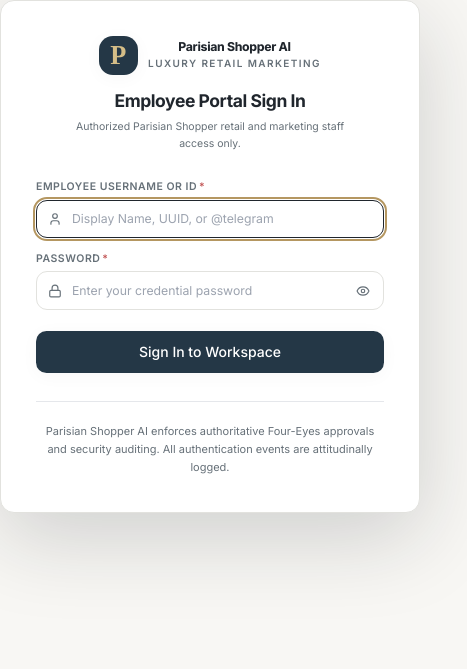
Test: Login Flow (WEB-AUTH-01 to WEB-AUTH-06, WEB-AUTH-15) › WEB-AUTH-05: displays generic error feedback on 401 invalid credentials
This screenshot has width=467, height=669.
In the field labelled "Employee Username or ID*": point(210, 219) x1=36 y1=200 x2=384 y2=238, type "wrong_user"
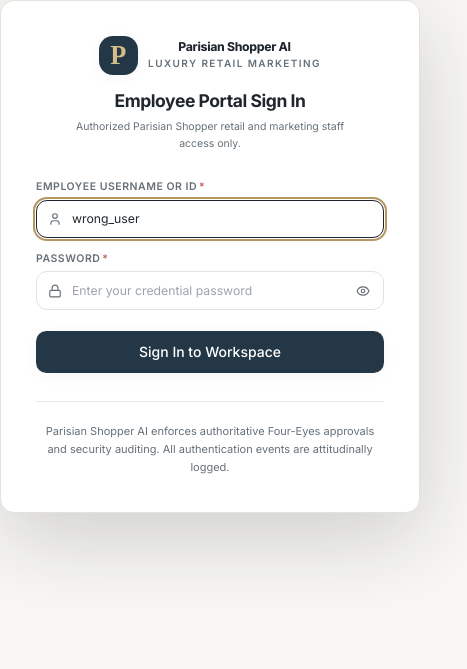
In the password field labelled "Password*": point(210, 291) x1=36 y1=271 x2=384 y2=310, type "wrong_pass"
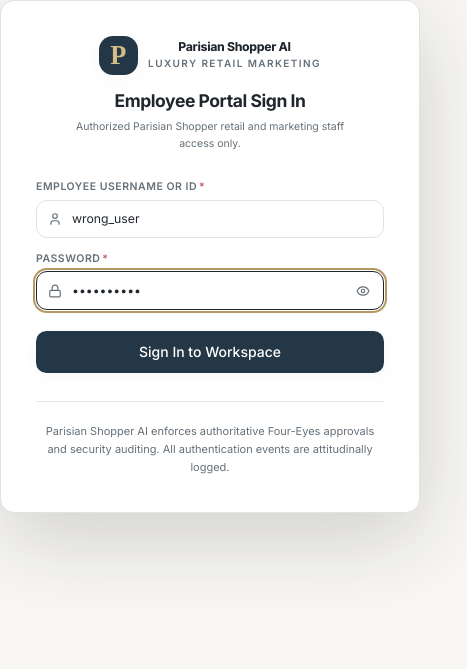
Click the button "Sign In to Workspace": point(210, 352) x1=36 y1=331 x2=384 y2=373
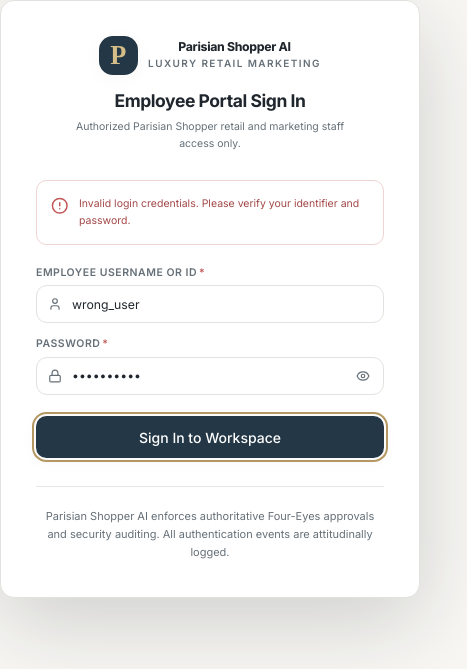
Check: the text "Invalid login credentials. Please verify your identifier and password." is shown, box x1=79 y1=195 x2=369 y2=230
